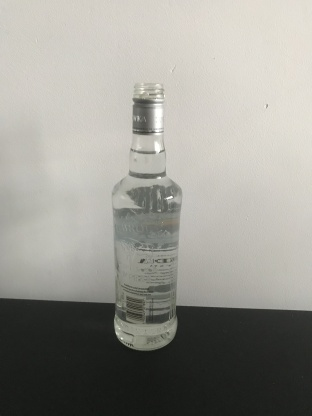nakretka: (130, 81, 165, 137)
